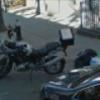motorcycles: (0, 20, 72, 76)
